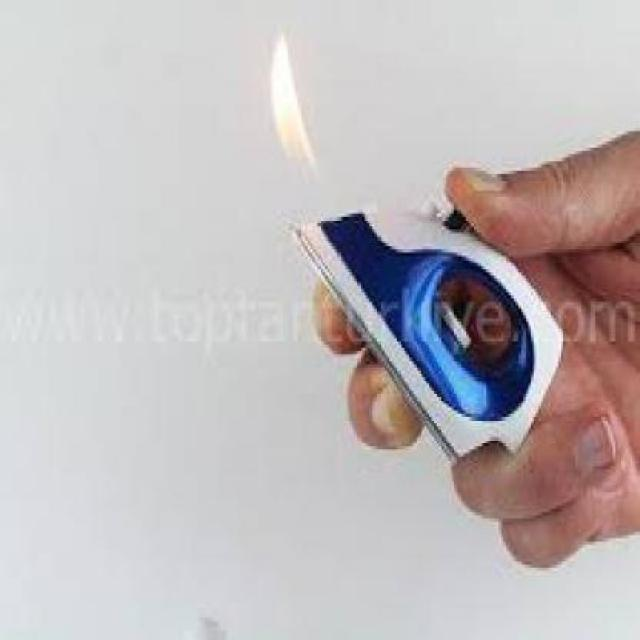Fire: (265, 34, 350, 213)
